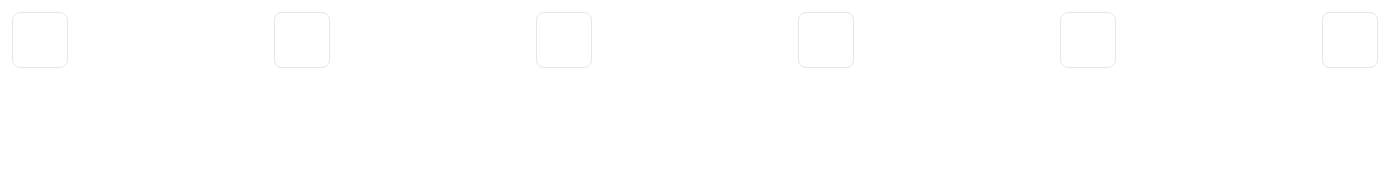
Test: OtpInput › moves focus forward while typing
Click the field named "Digit 1" at point(40, 40), box [12, 12, 68, 68]
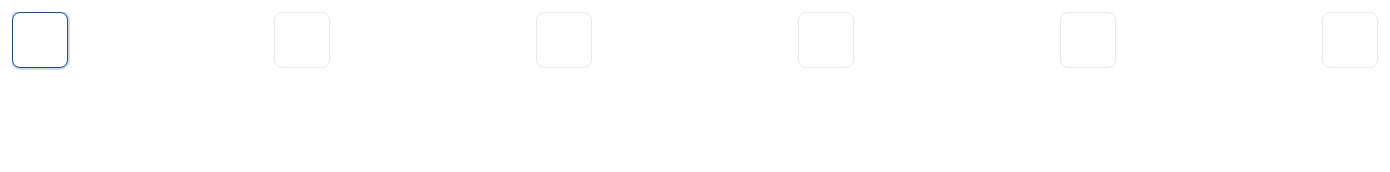
Type keys "4829"
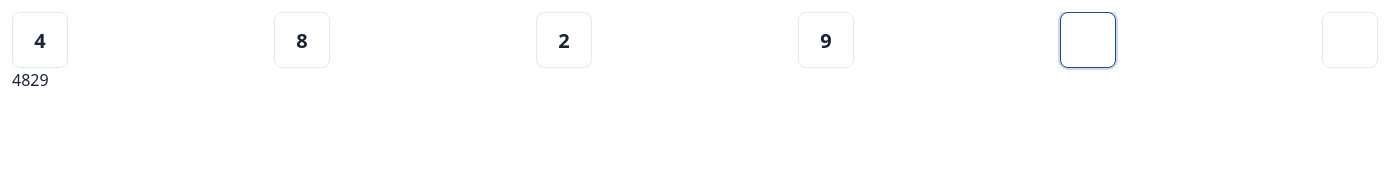
Expected: the text with test id "value" reads "4829", [12, 69, 49, 91]
